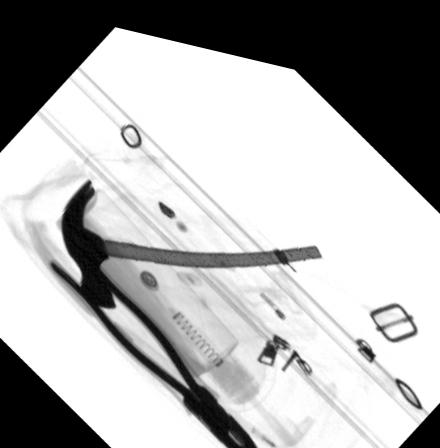Hammer: (61, 173, 322, 304)
Pliers: (48, 244, 265, 448)
